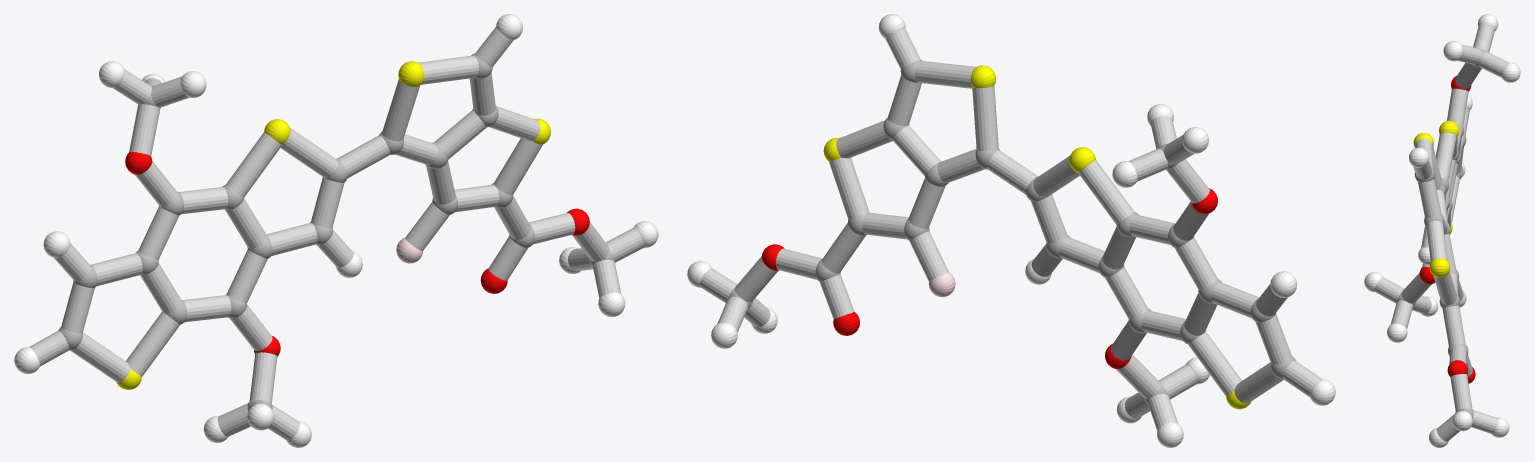
The model's file is color.glb.
The picture shows the model from 3 angles, left to right: view 1: azimuth 30°, elevation 25°; view 2: azimuth 150°, elevation 25°; view 3: azimuth 270°, elevation 25°; orthographic projection. The views are drawn at different scales.
Visible parts, largest first — view 1: grp15205, grp8689, grp1, grp7241, grp13395; view 2: grp15205, grp8689, grp1, grp13395, grp7241; view 3: grp15205, grp8689, grp1, grp7241, grp13395.
Part boxes in pixels (x1=…): grp15205: x1=29, y1=27, x2=644, y2=440; grp8689: x1=14, y1=14, x2=658, y2=447; grp1: x1=58, y1=53, x2=614, y2=410; grp7241: x1=116, y1=61, x2=550, y2=389; grp13395: x1=125, y1=152, x2=589, y2=356; grp15205: x1=699, y1=29, x2=1321, y2=430; grp8689: x1=687, y1=14, x2=1335, y2=447; grp1: x1=728, y1=59, x2=1295, y2=404; grp13395: x1=761, y1=188, x2=1217, y2=368; grp7241: x1=823, y1=65, x2=1251, y2=409; grp15205: x1=1374, y1=25, x2=1508, y2=441; grp8689: x1=1364, y1=14, x2=1520, y2=447; grp1: x1=1397, y1=48, x2=1486, y2=416; grp7241: x1=1413, y1=120, x2=1459, y2=277; grp13395: x1=1419, y1=76, x2=1475, y2=383.
Size of the model in its own units: 16.49 by 9.06 by 4.58.
